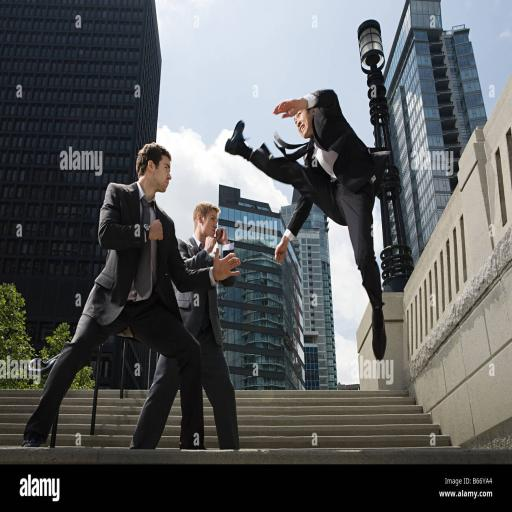fight: (35, 56, 452, 416)
